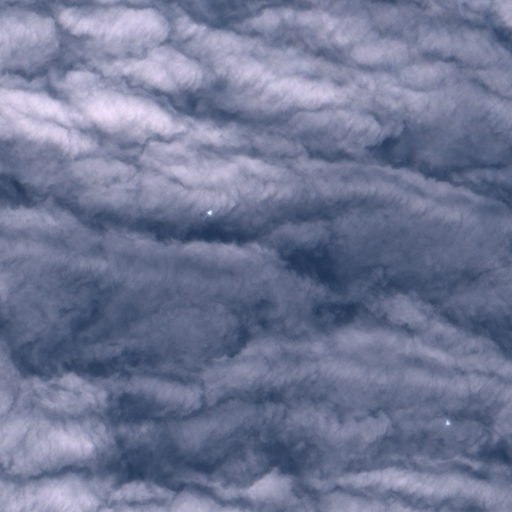Iceberg: (207, 210, 211, 214), (446, 420, 449, 424)
